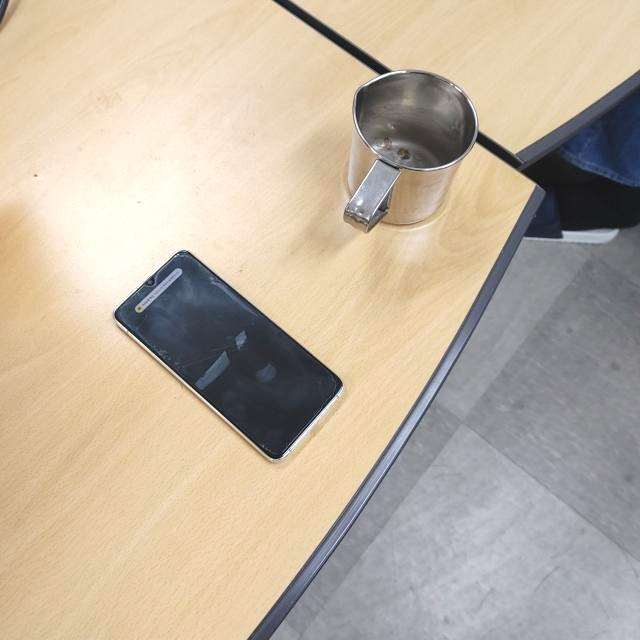cup: (344, 67, 479, 233)
phone: (111, 246, 345, 466)
